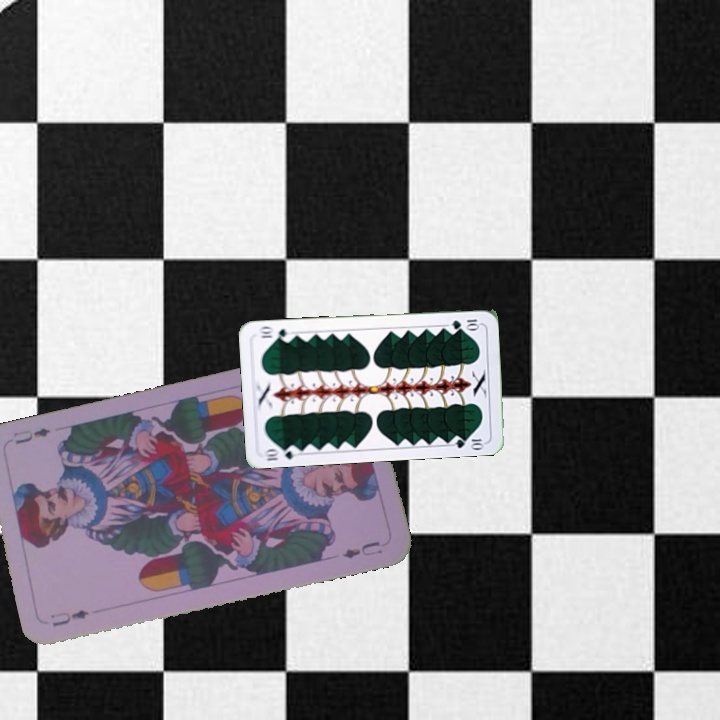EU: (46, 605, 92, 629)
G10: (260, 442, 301, 463), (447, 315, 482, 331)
